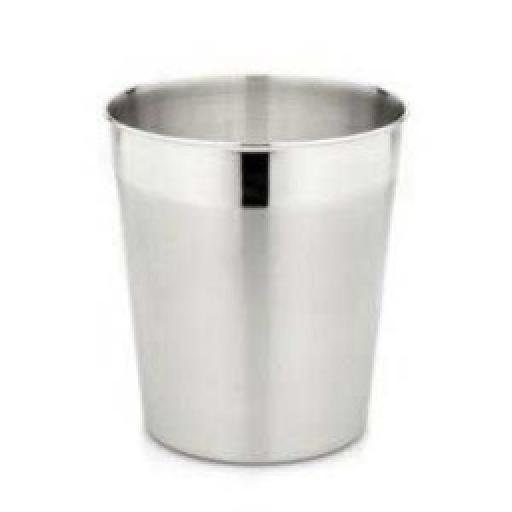trash-can: (85, 38, 435, 486)
